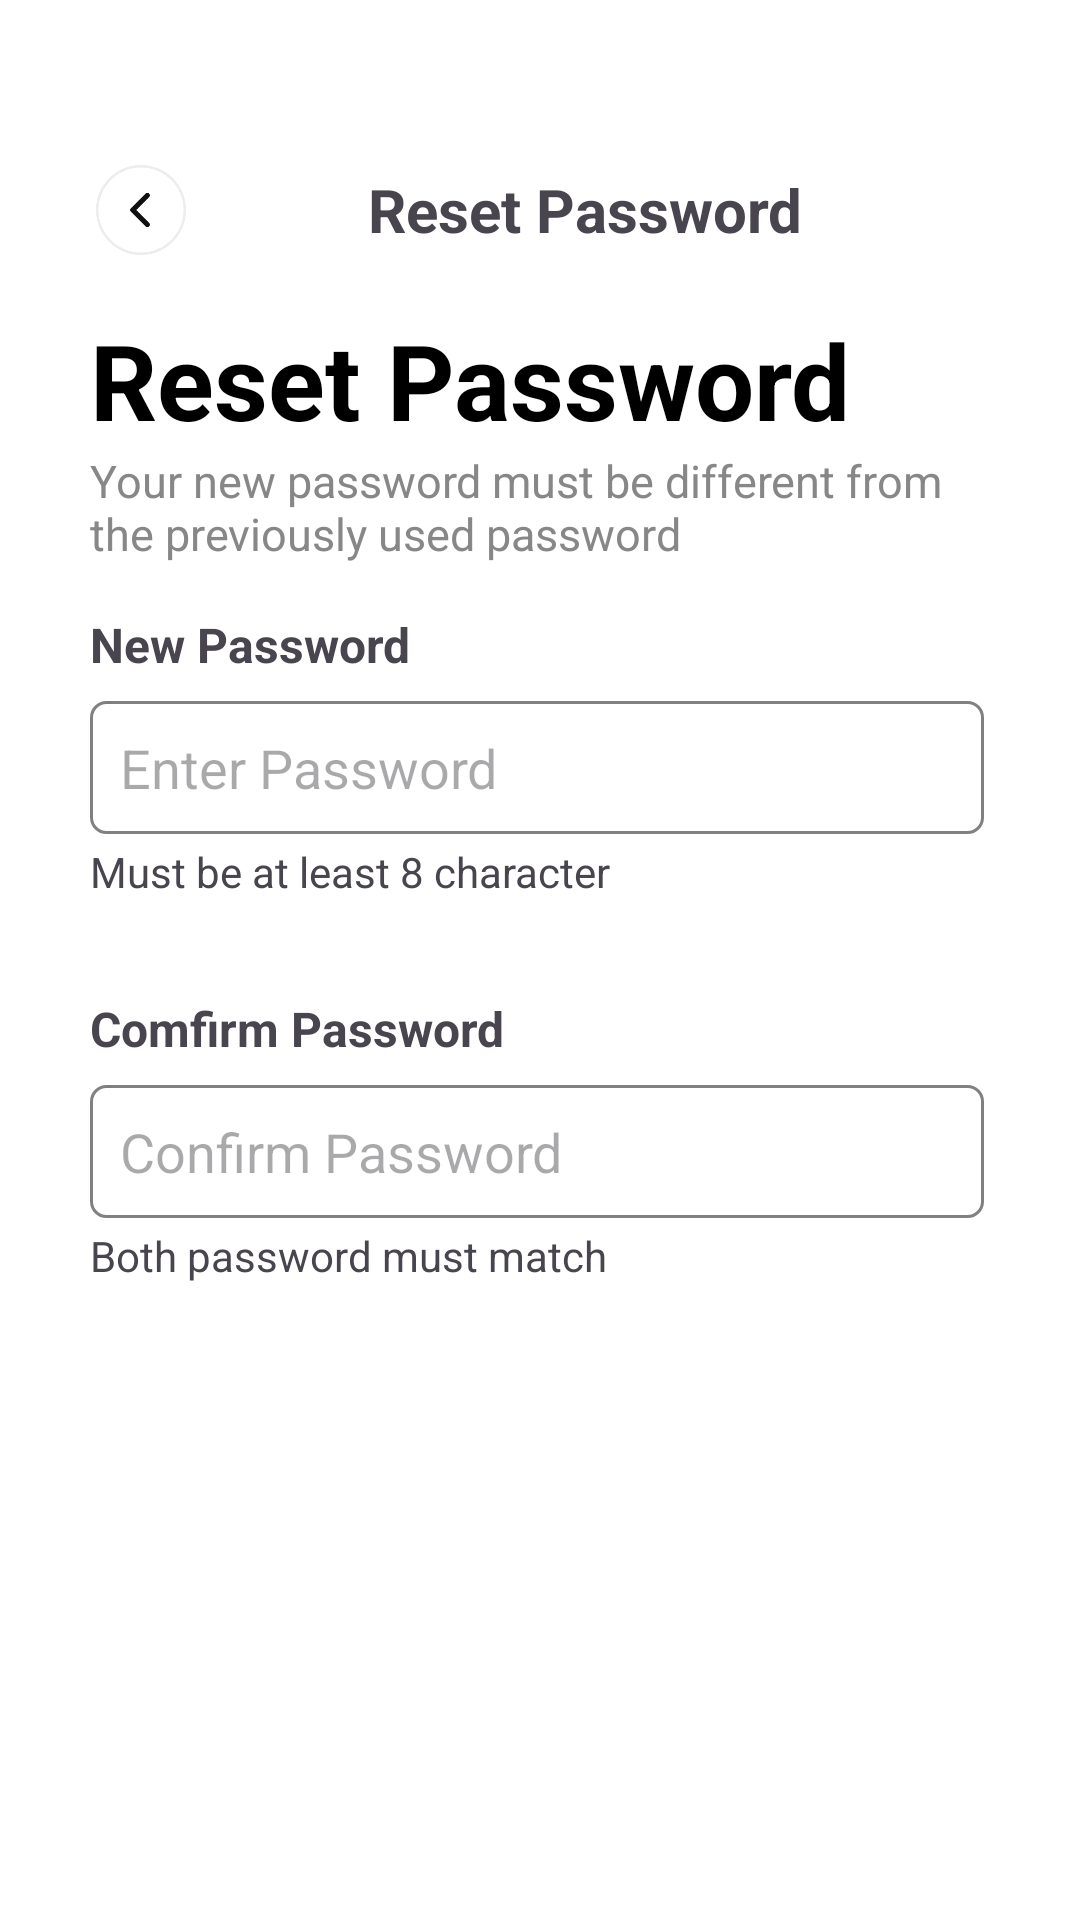

Screen size 1080px x 1920px. Icon name, then its box in pixels as bbox(x1, y1, x2, y2):
back: bbox(130, 193, 150, 227)
